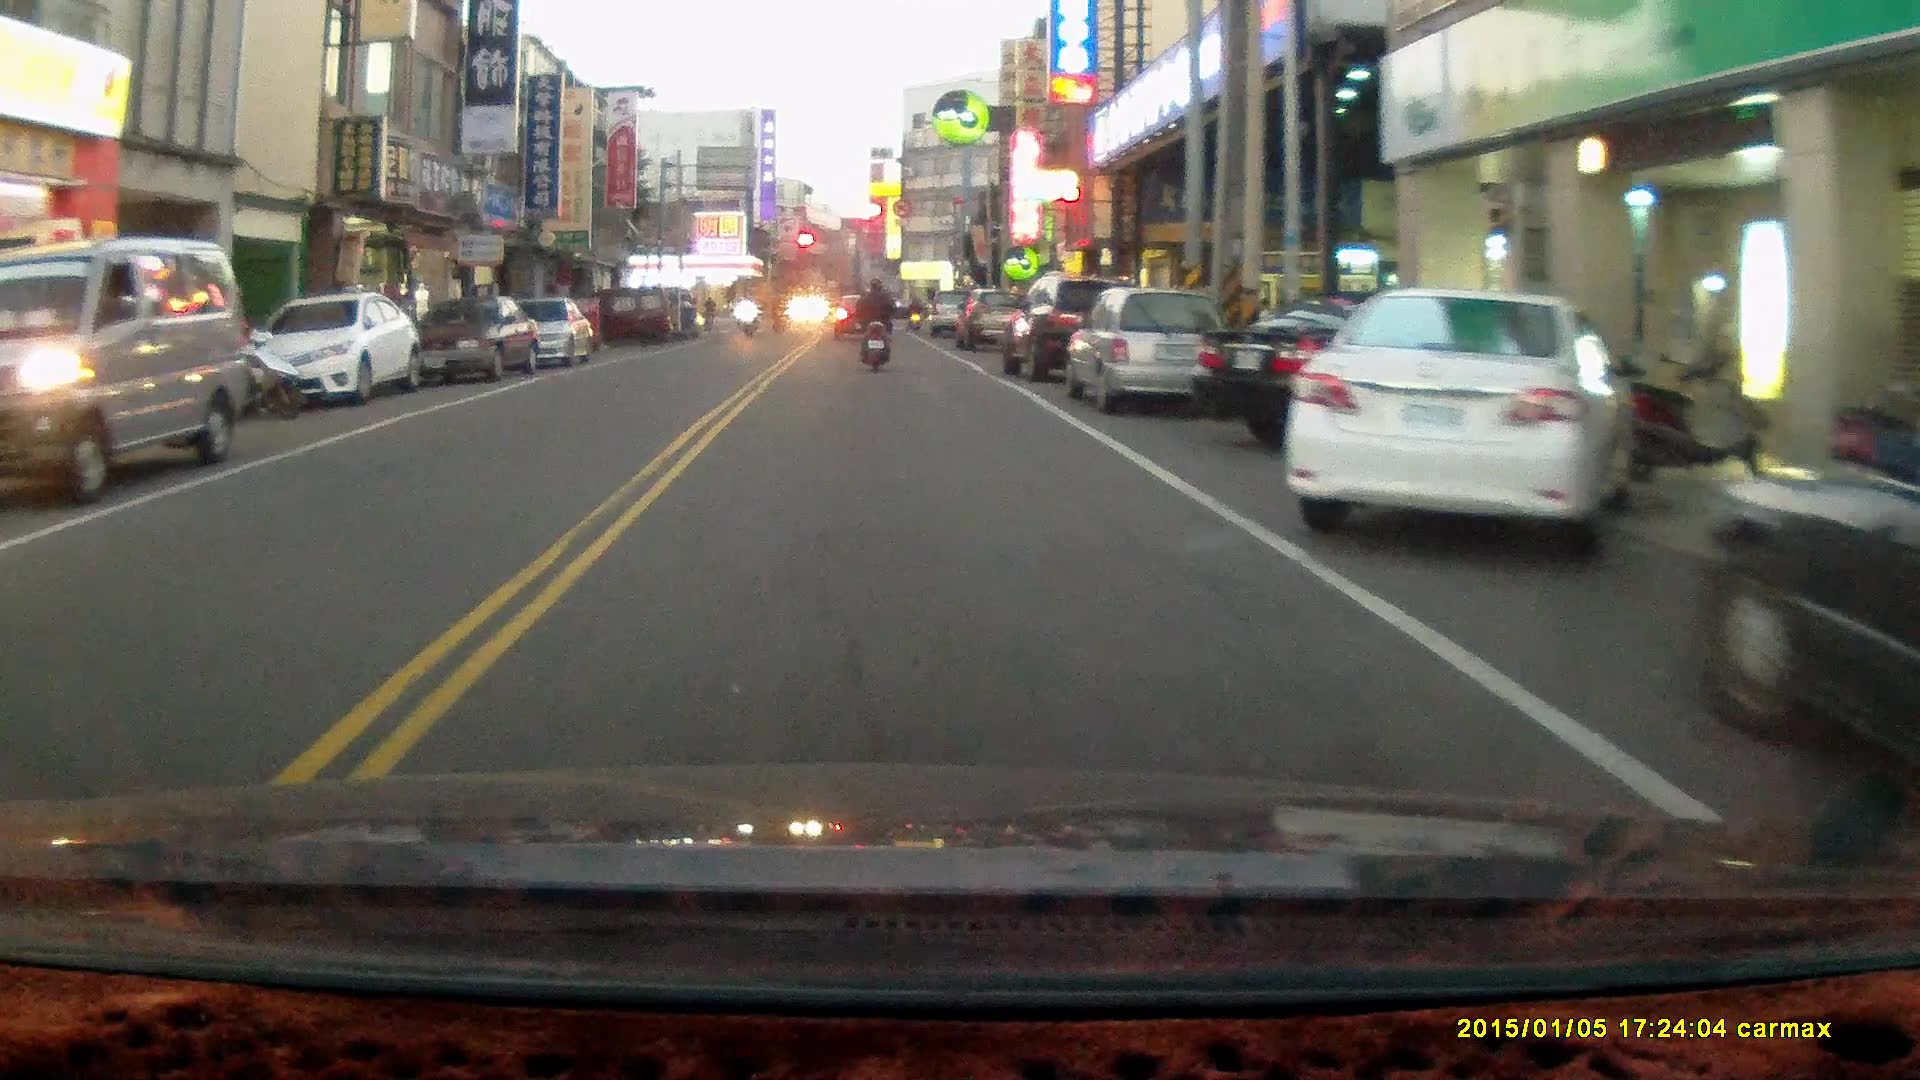rider: (234, 298, 305, 424), (853, 274, 896, 375), (733, 292, 757, 338)
vehicle: (1688, 376, 1920, 812), (1290, 288, 1637, 552), (2, 238, 251, 506), (1192, 294, 1582, 456), (1067, 285, 1239, 413), (252, 293, 420, 412), (999, 282, 1143, 383), (405, 297, 543, 385), (484, 299, 591, 375)
